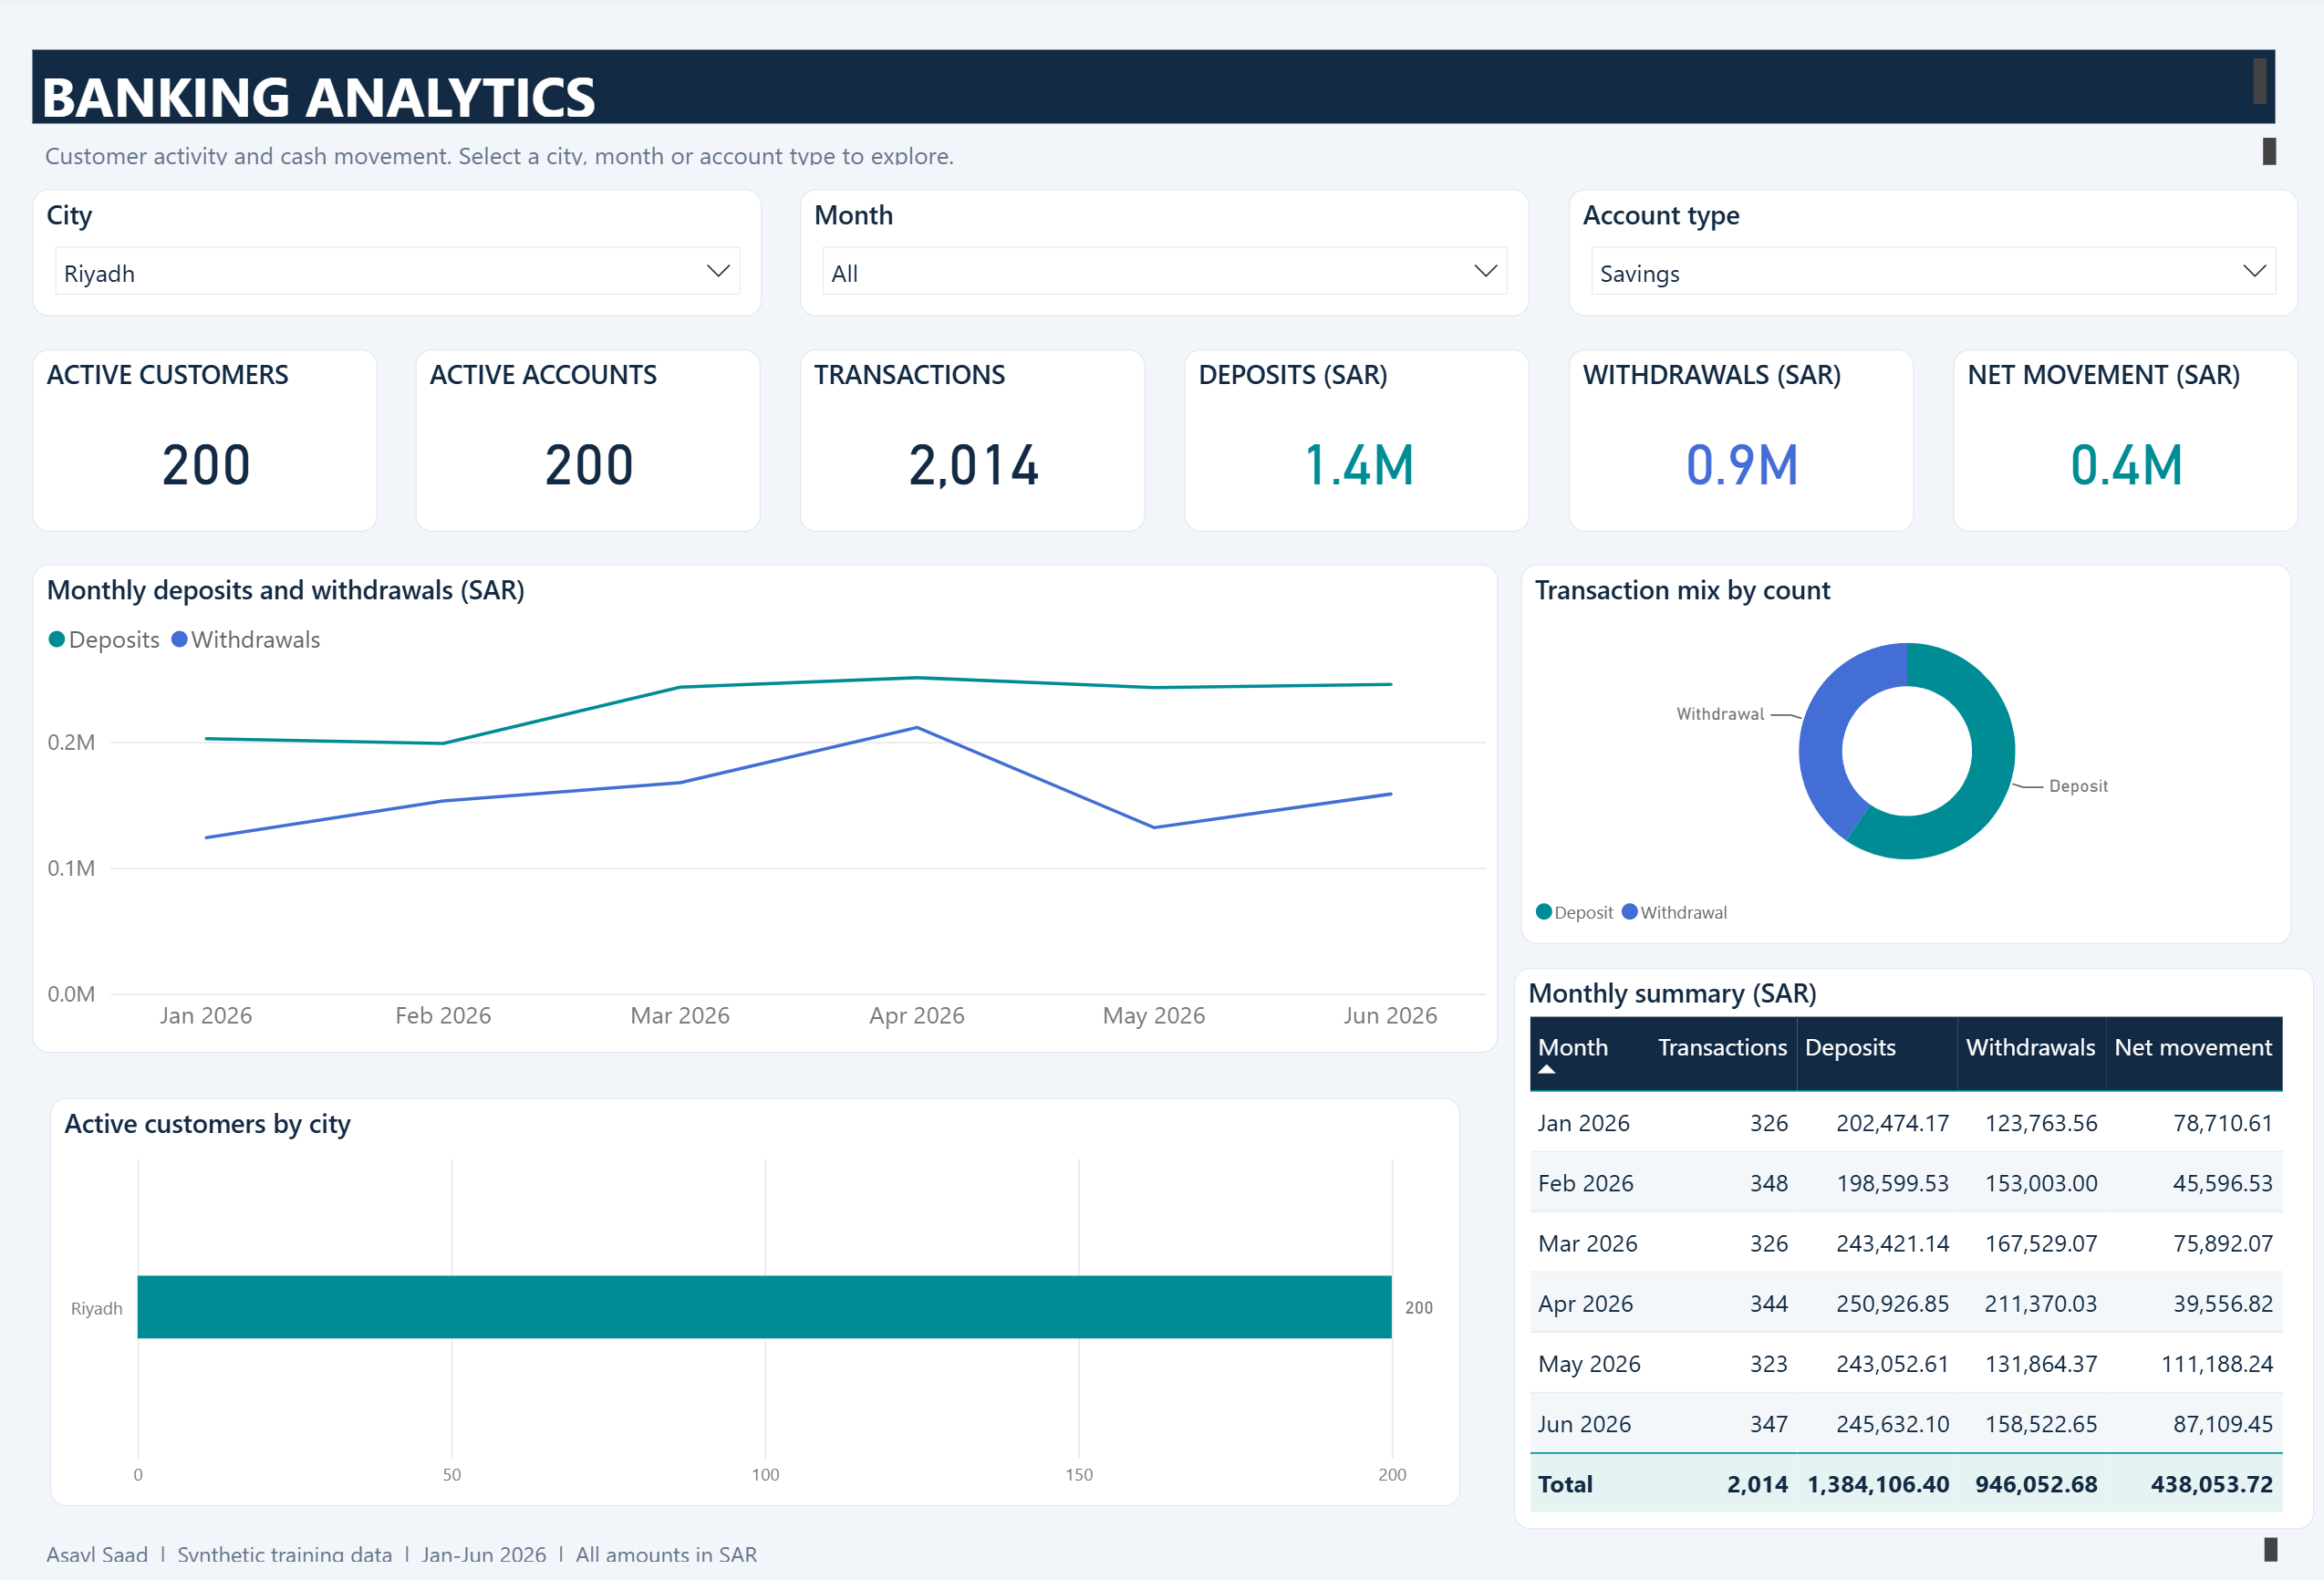

What the dashboard file says about the page in this screenshot:
{"tool":"powerbi","page":{"name":"01  Overview","canvas":[1440,960],"ordinal":0},"visuals":[{"type":"textbox","box":[24.4,16,1377,45.4],"z":0},{"type":"textbox","box":[27,65,1380,27],"z":1000},{"type":"textbox","box":[28,924,1380,25],"z":2000},{"type":"slicer","title":"City","fields":{"Values":["Customers.City"]},"box":[24,102,448,78],"z":3000},{"type":"slicer","title":"Month","fields":{"Values":["Calendar.YearMonth"]},"box":[496,102,448,78],"z":4000},{"type":"slicer","title":"Account type","fields":{"Values":["Accounts.AccountType"]},"box":[968,102,448,78],"z":5000},{"type":"card","title":"ACTIVE CUSTOMERS","fields":{"Values":["Transactions.Active Customers"]},"box":[24,200,212,112],"z":6000},{"type":"card","title":"ACTIVE ACCOUNTS","fields":{"Values":["Transactions.Active Accounts"]},"box":[260,200,212,112],"z":7000},{"type":"card","title":"TRANSACTIONS","fields":{"Values":["Transactions.Total Transactions"]},"box":[496,200,212,112],"z":8000},{"type":"card","title":"DEPOSITS (SAR)","fields":{"Values":["Transactions.Total Deposits"]},"box":[732,200,212,112],"z":9000},{"type":"card","title":"WITHDRAWALS (SAR)","fields":{"Values":["Transactions.Total Withdrawals"]},"box":[968,200,212,112],"z":10000},{"type":"card","title":"NET MOVEMENT (SAR)","fields":{"Values":["Transactions.Net Movement"]},"box":[1204,200,212,112],"z":11000},{"type":"lineChart","title":"Monthly deposits and withdrawals (SAR)","fields":{"Category":["Calendar.YearMonth"],"Y":["Transactions.Total Deposits","Transactions.Total Withdrawals"]},"box":[24.4,331.9,899.8,299.9],"z":12000},{"type":"donutChart","title":"Transaction mix by count","fields":{"Category":["Transactions.TransactionType"],"Y":["Transactions.Total Transactions"]},"box":[938.4,331.9,473,233.6],"z":13000},{"type":"clusteredBarChart","title":"Active customers by city","fields":{"Category":["Customers.City"],"Y":["Transactions.Active Customers"]},"box":[35.3,659.5,866.2,250.4],"z":14000},{"type":"tableEx","title":"Monthly summary (SAR)","fields":{"Values":["Calendar.YearMonth","Transactions.Total Transactions","Transactions.Total Deposits","Transactions.Total Withdrawals","Transactions.Net Movement"]},"box":[934.2,579.7,491.5,344.5],"z":15000}]}

Visuals, with their boxes in screenshot pixels (x1, y1, x2, y2), scaled from the page's 1440x960 canvas onto the 2324x1580 screenshot:
textbox: 39, 26, 2262, 101
textbox: 44, 107, 2271, 151
textbox: 46, 1521, 2272, 1562
"City" slicer: 38, 168, 762, 296
"Month" slicer: 801, 168, 1523, 296
"Account type" slicer: 1562, 168, 2286, 296
"ACTIVE CUSTOMERS" card: 38, 329, 381, 514
"ACTIVE ACCOUNTS" card: 420, 329, 762, 514
"TRANSACTIONS" card: 801, 329, 1143, 514
"DEPOSITS (SAR)" card: 1181, 329, 1523, 514
"WITHDRAWALS (SAR)" card: 1562, 329, 1904, 514
"NET MOVEMENT (SAR)" card: 1943, 329, 2286, 514
"Monthly deposits and withdrawals (SAR)" lineChart: 39, 546, 1491, 1040
"Transaction mix by count" donutChart: 1514, 546, 2277, 930
"Active customers by city" clusteredBarChart: 57, 1086, 1455, 1498
"Monthly summary (SAR)" tableEx: 1508, 954, 2301, 1521
